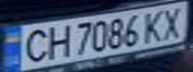0: (90, 17, 112, 52)
6: (121, 11, 145, 47)
7: (69, 19, 93, 55)
8: (106, 16, 127, 51)
C: (18, 26, 51, 63)
H: (42, 21, 72, 60)
K: (139, 7, 169, 43)
X: (157, 3, 190, 39)
